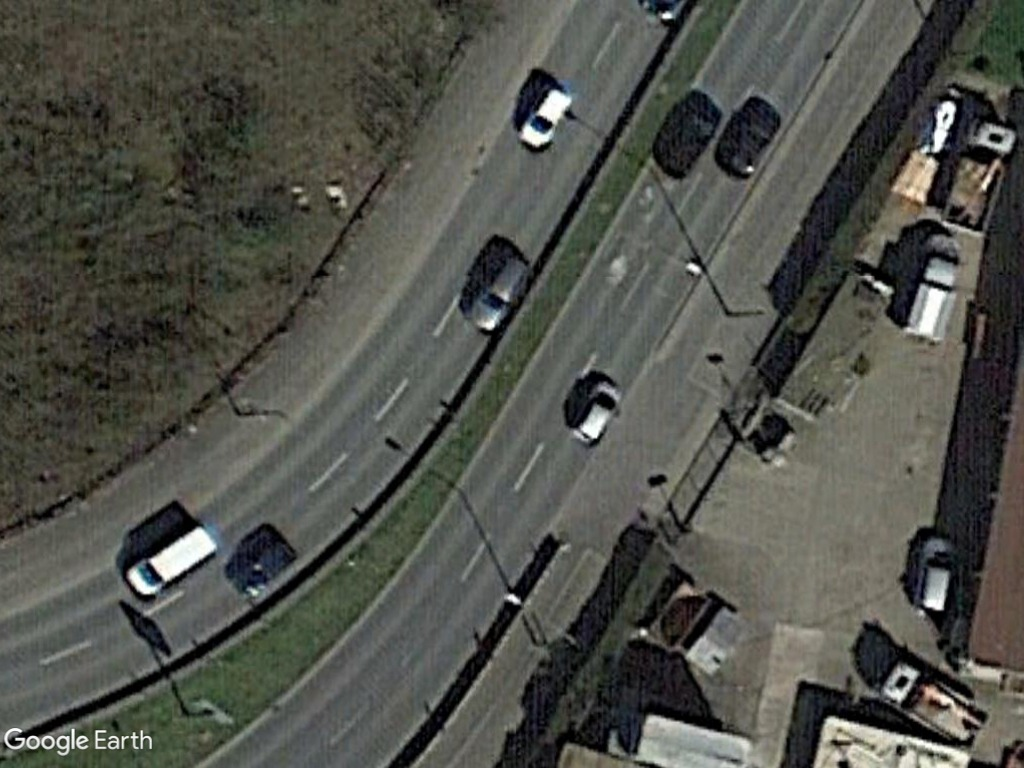car: (459, 249, 534, 337), (565, 377, 624, 446), (910, 531, 956, 619)
van: (119, 521, 221, 599), (514, 83, 574, 151)
